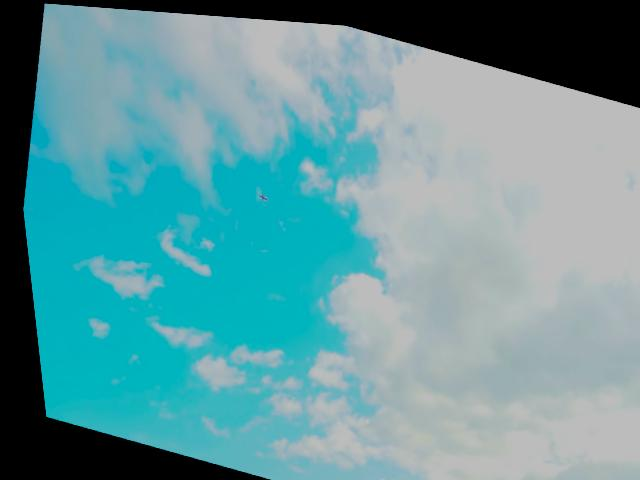plane: (254, 188, 265, 199)
